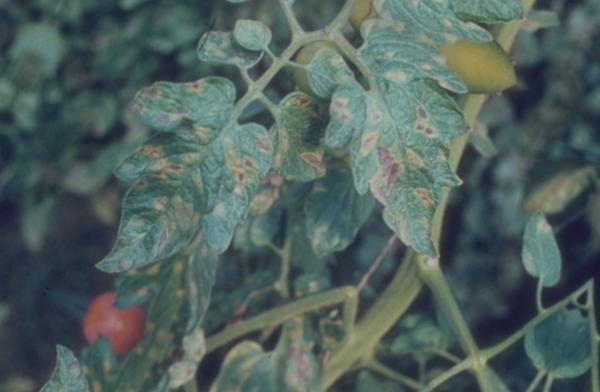Tomato mold leaf: (257, 2, 532, 270), (57, 46, 301, 325), (500, 202, 589, 301), (222, 10, 281, 65), (402, 388, 521, 392)
